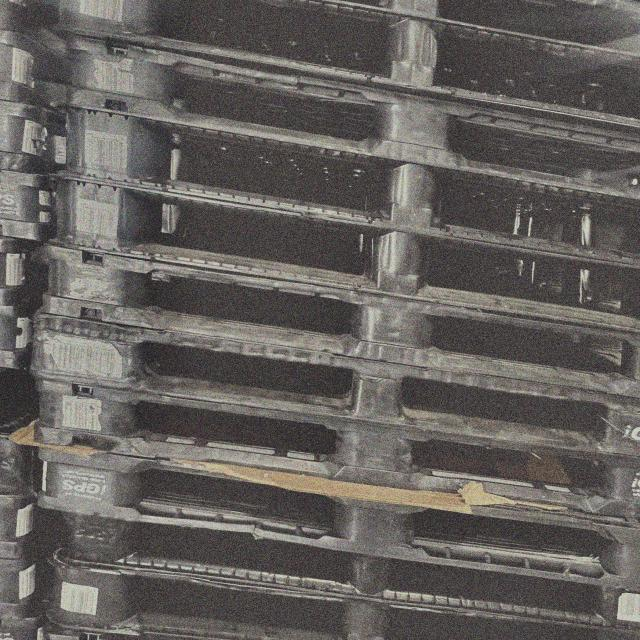igps: (31, 18, 640, 204), (40, 162, 640, 340), (27, 235, 640, 404), (46, 99, 640, 272), (23, 370, 640, 535), (23, 431, 640, 594), (12, 308, 640, 468), (25, 0, 640, 146), (42, 495, 639, 640), (40, 546, 640, 640), (319, 0, 640, 67)
